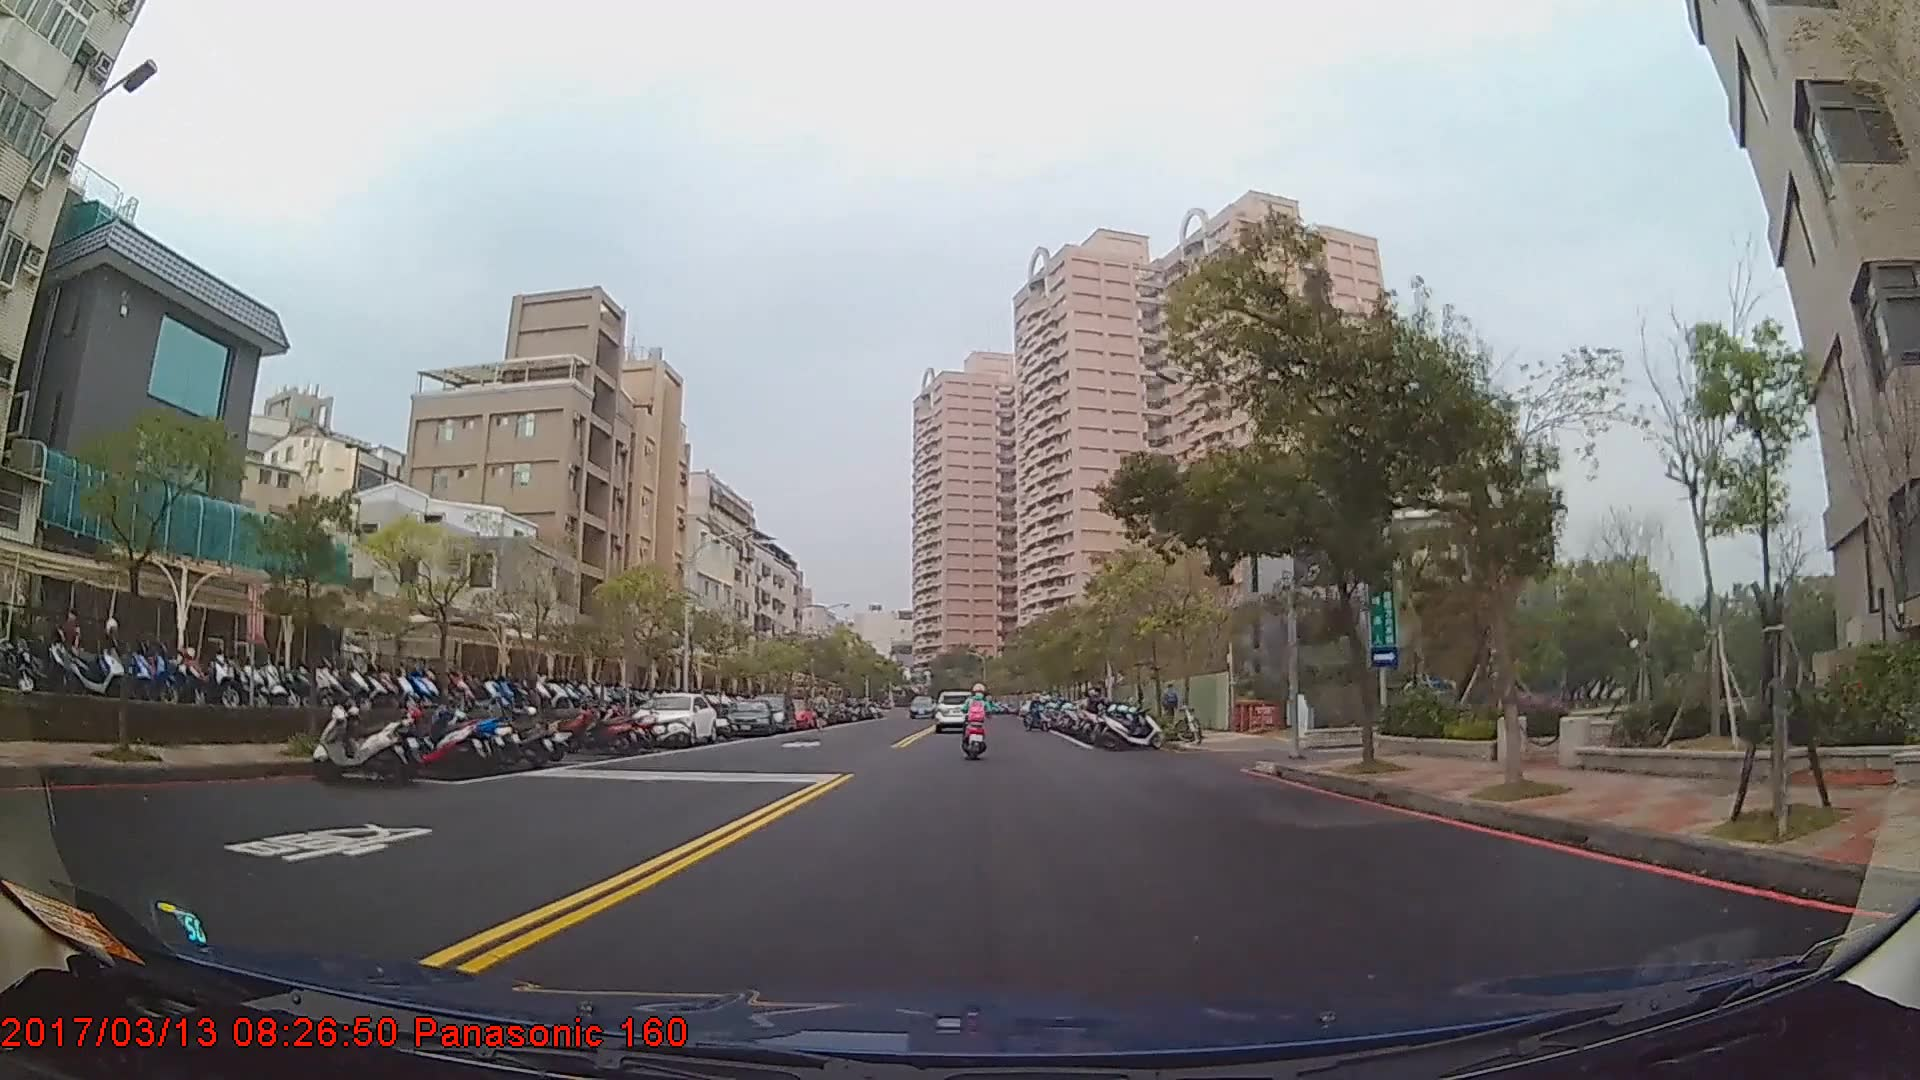pedestrian: (1162, 683, 1182, 733)
rider: (965, 683, 995, 757)
vehicle: (629, 691, 718, 746), (931, 688, 981, 732), (747, 695, 795, 738), (721, 699, 774, 739), (907, 696, 935, 720)
